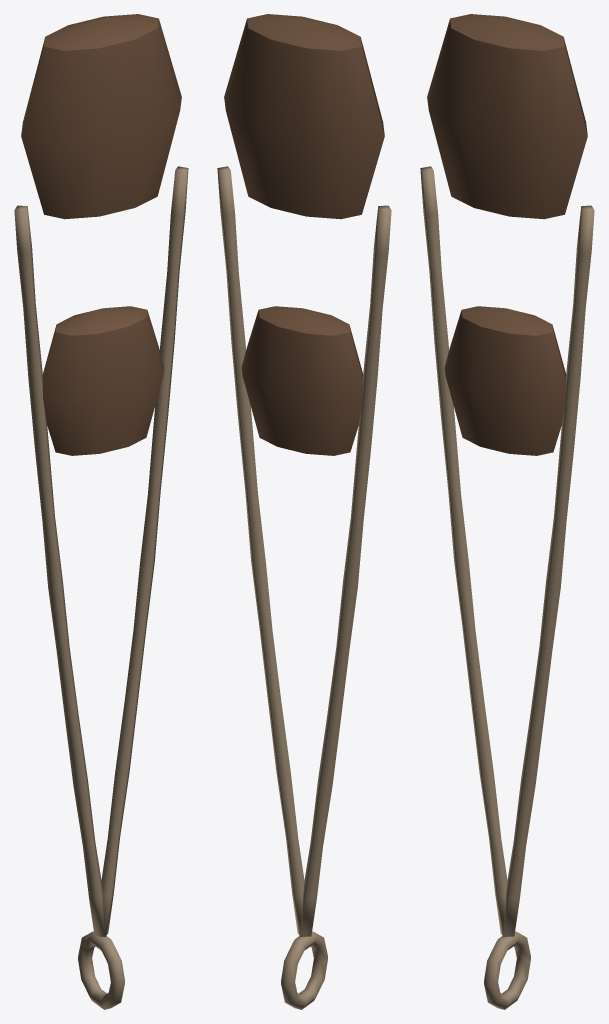
Rendered from halfling-double-sling.glb.
3 renders of one model, left to right at view 1: azimuth 30°, elevation 25°; view 2: azimuth 150°, elevation 25°; view 3: azimuth 330°, elevation 25°, orthographic.
Visible parts, largest first — view 1: halfling-double-sling; view 2: halfling-double-sling; view 3: halfling-double-sling.
Part boxes in pixels (x1,y1,x2,y2): halfling-double-sling: [14, 14, 188, 1009]; halfling-double-sling: [217, 14, 391, 1009]; halfling-double-sling: [420, 14, 594, 1009].
Bounding box in the file's own units: 0.1516 × 0.8187 × 0.0666.
